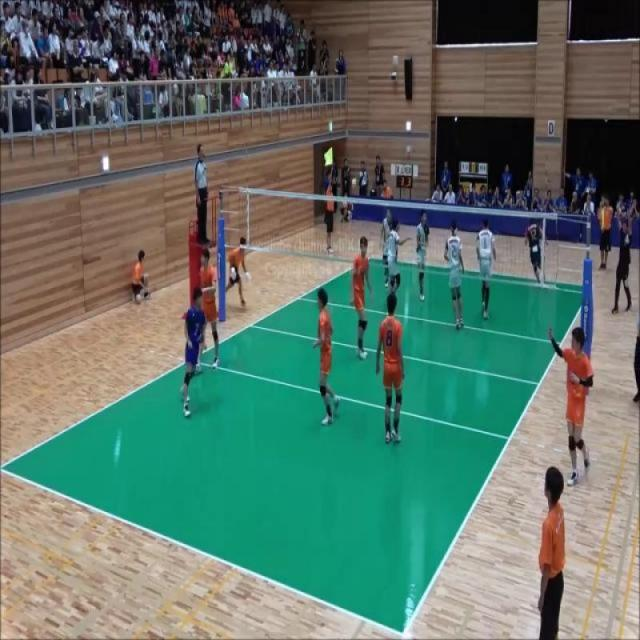volleyball: (351, 177, 357, 190), (342, 201, 348, 207)
